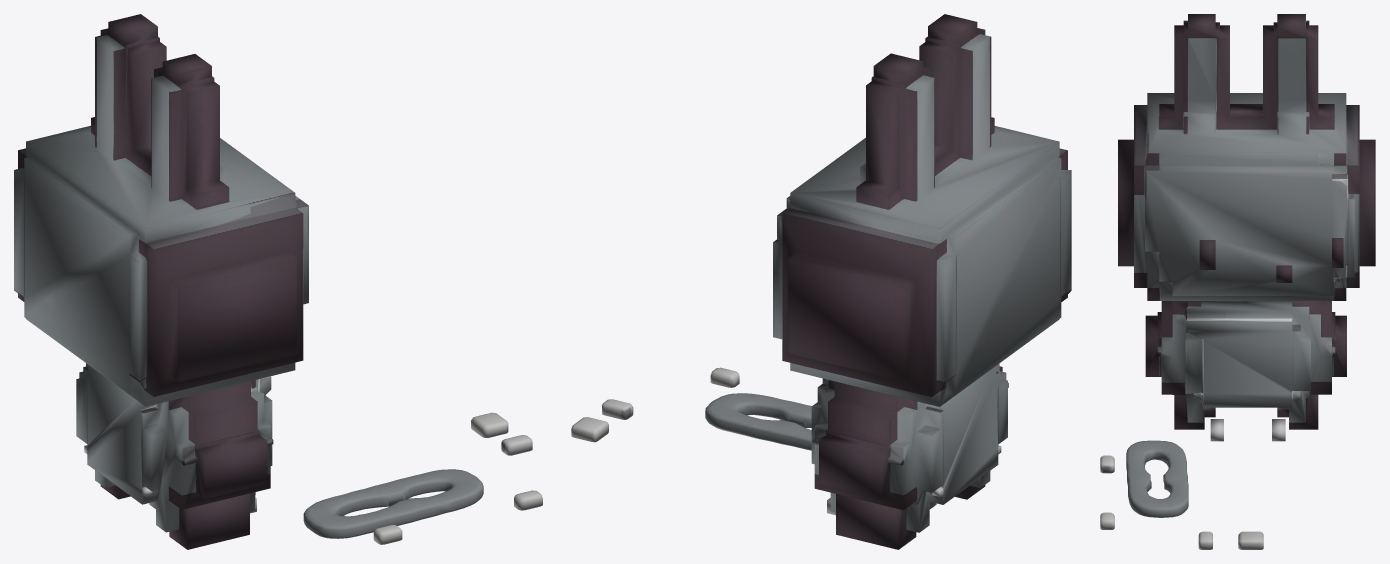
The model's file is Pixel Art Bunny Character.glb.
3 renders of one model, left to right at view 1: azimuth 30°, elevation 25°; view 2: azimuth 150°, elevation 25°; view 3: azimuth 270°, elevation 25°, orthographic. The views are drawn at different scales.
Parts seen in each view (by area): view 1: pb_node; view 2: pb_node; view 3: pb_node.
Part boxes in pixels (box(x1,y1,x2,y2)): pb_node: box(14, 14, 542, 549); pb_node: box(571, 14, 1071, 549); pb_node: box(1100, 14, 1375, 549).
Size of the model in its own units: 0.9512 by 0.998 by 0.6387.
1 material, 1 textured.
